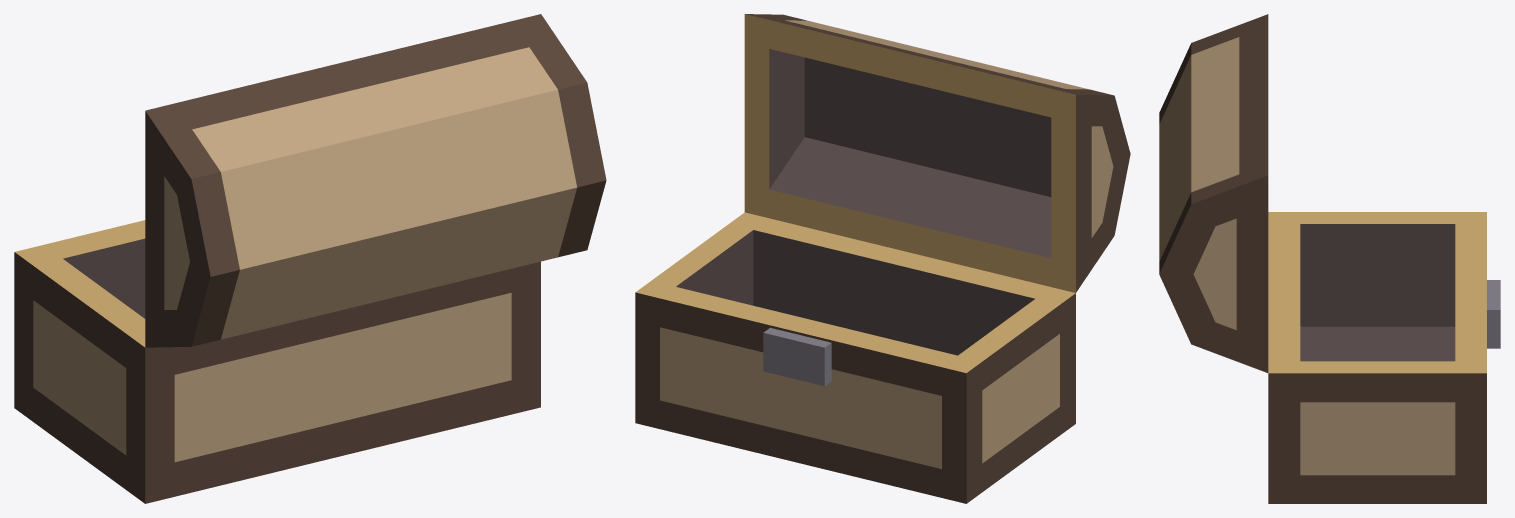
The model's file is TB_Prop_Chest_Open_A.FBX.
3 views of the same model, side by side, from view 1: azimuth 30°, elevation 25°; view 2: azimuth 150°, elevation 25°; view 3: azimuth 270°, elevation 25° (orthographic). The views are drawn at different scales.
Visible parts, largest first — view 1: TB_Prop_Chest_Open_A; view 2: TB_Prop_Chest_Open_A; view 3: TB_Prop_Chest_Open_A.
Boxes of the visible parts, box(x1,y1,x2,y2) form: TB_Prop_Chest_Open_A: box(14, 14, 606, 503); TB_Prop_Chest_Open_A: box(635, 14, 1130, 503); TB_Prop_Chest_Open_A: box(1159, 14, 1500, 503).
Bounding box in the file's own units: 1.05 × 0.9932 × 0.9355.
